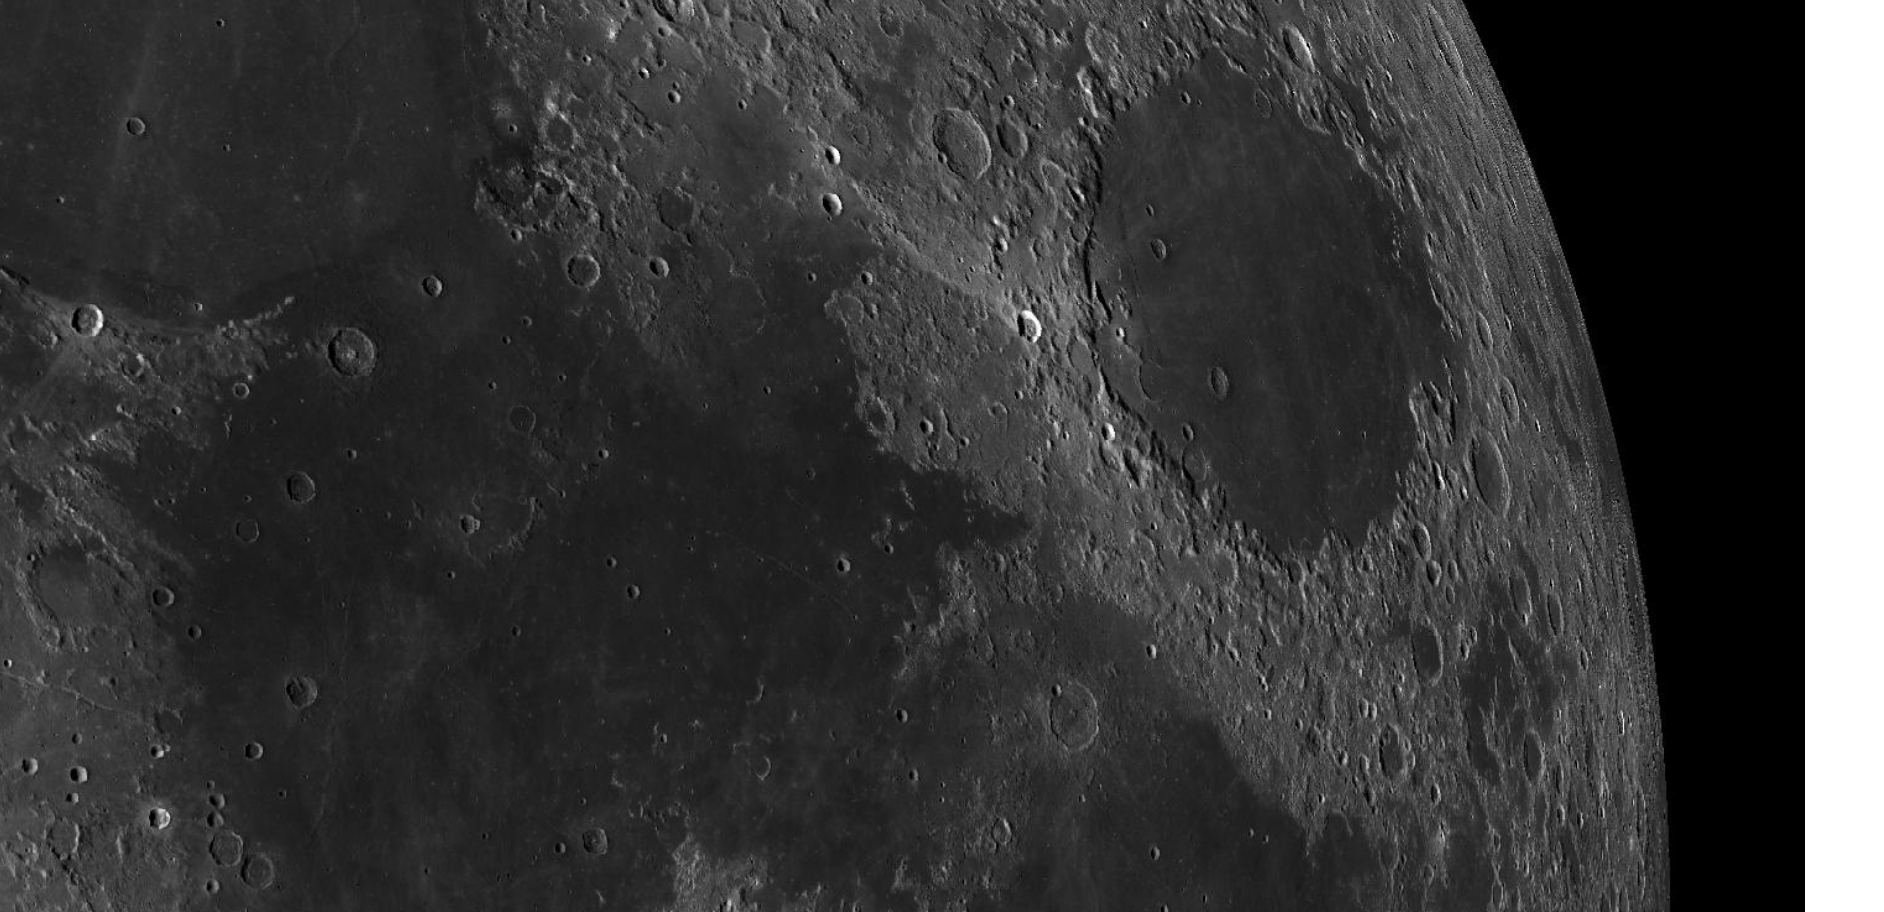crater: (1057, 24, 1477, 589), (1035, 664, 1123, 785), (923, 95, 998, 203), (1457, 413, 1524, 536), (1394, 604, 1457, 699), (314, 318, 394, 391), (94, 107, 191, 165), (642, 178, 725, 240), (278, 461, 336, 525), (553, 250, 613, 306), (495, 389, 549, 448), (572, 818, 624, 865), (235, 851, 287, 895), (198, 828, 245, 872), (813, 184, 858, 223)
